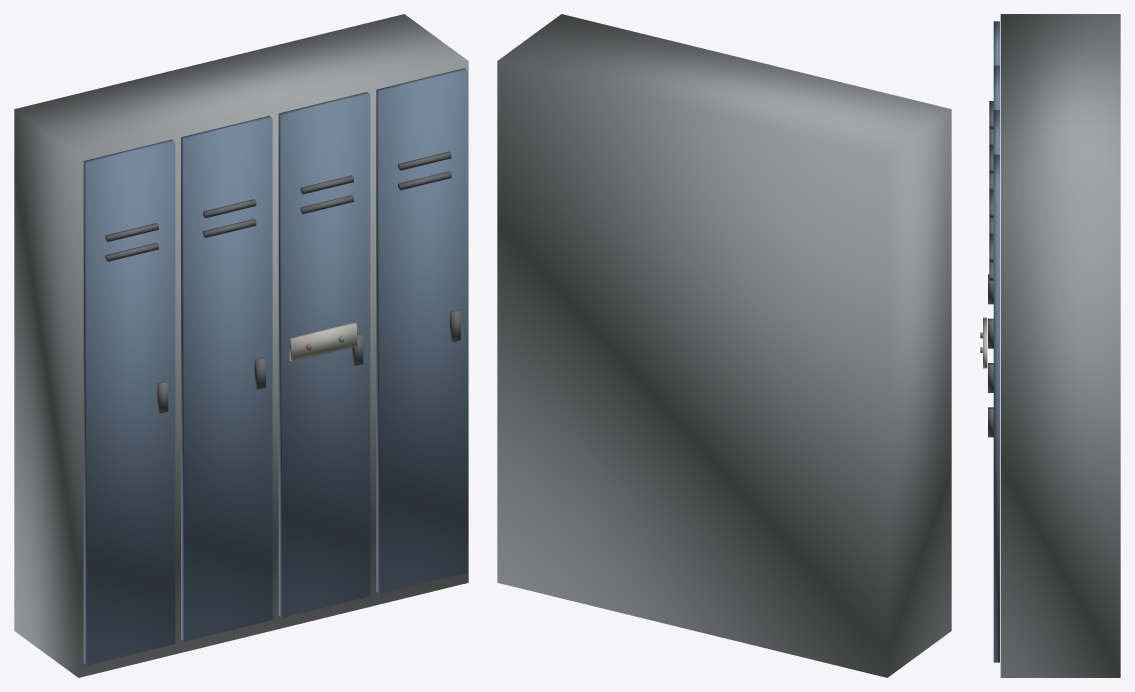
File: school_locker_bank__tall.glb
3 views of the same model, side by side, from view 1: azimuth 30°, elevation 25°; view 2: azimuth 150°, elevation 25°; view 3: azimuth 270°, elevation 25° (orthographic). The views are drawn at different scales.
Visible parts, largest first — view 1: world; view 2: world; view 3: world.
Part boxes in pixels (x1,y1,x2,y2): world: [14, 14, 468, 677]; world: [497, 14, 951, 677]; world: [980, 14, 1120, 677].
Bounding box in the file's own units: 1.68 × 2.15 × 0.561.
